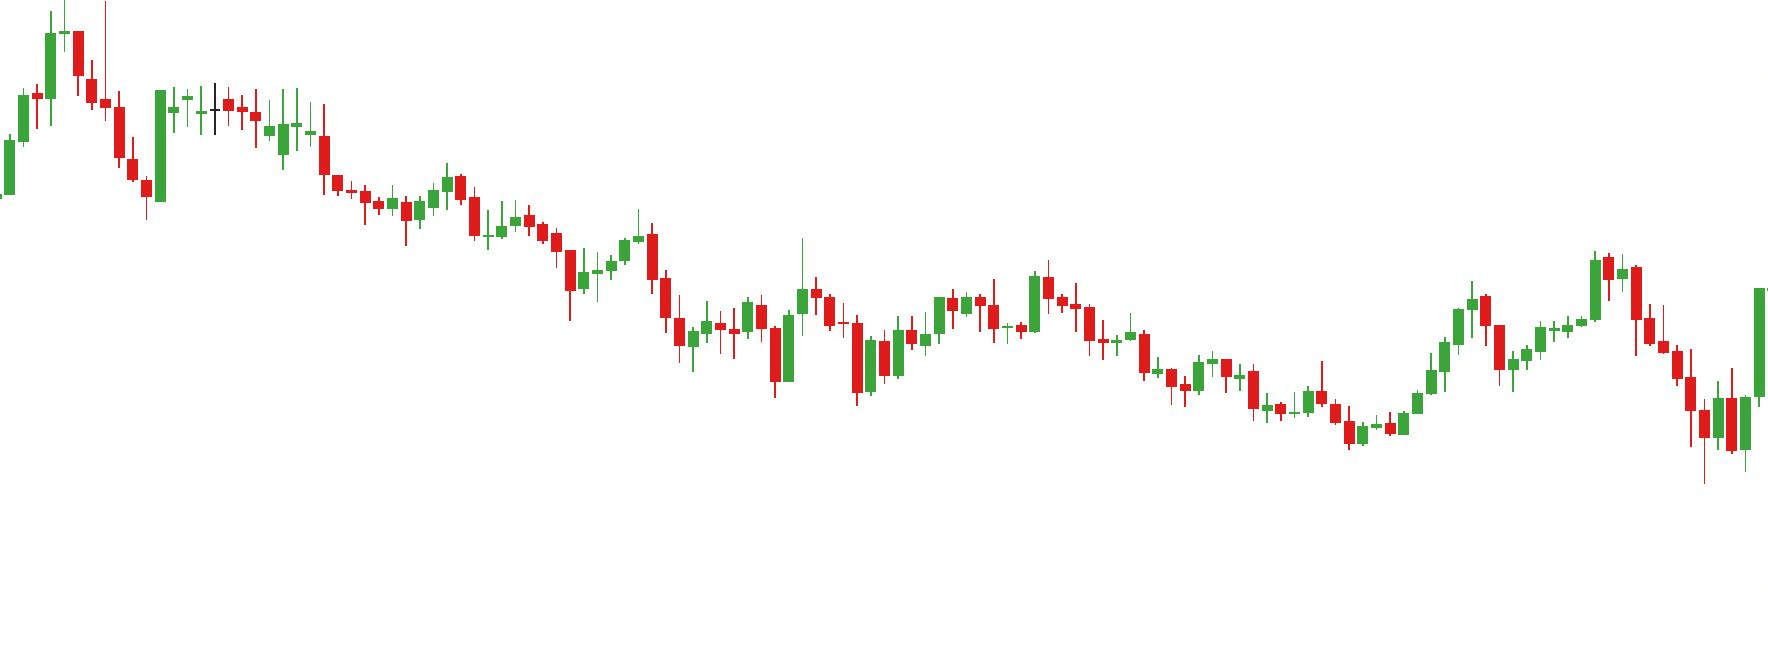buy: (770, 321, 878, 408)
sell: (1465, 249, 1615, 347)
